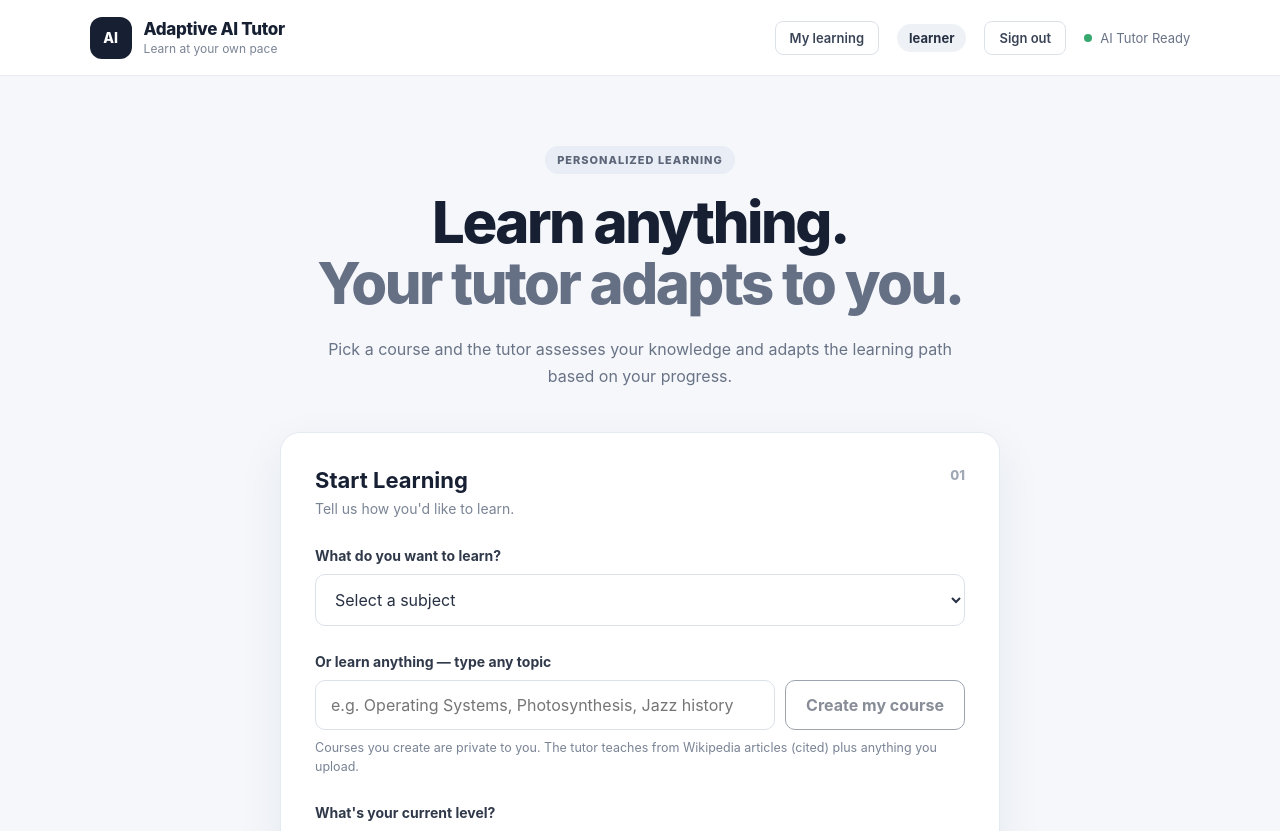
Test case: App › keeps asking the planner after an 'advance' decision
The image size is (1280, 831).
Select "Computer Networks" in the dropdown labelled "What do you want to learn?" at point(640, 600), box [315,574,965,626]
(page scrolled)
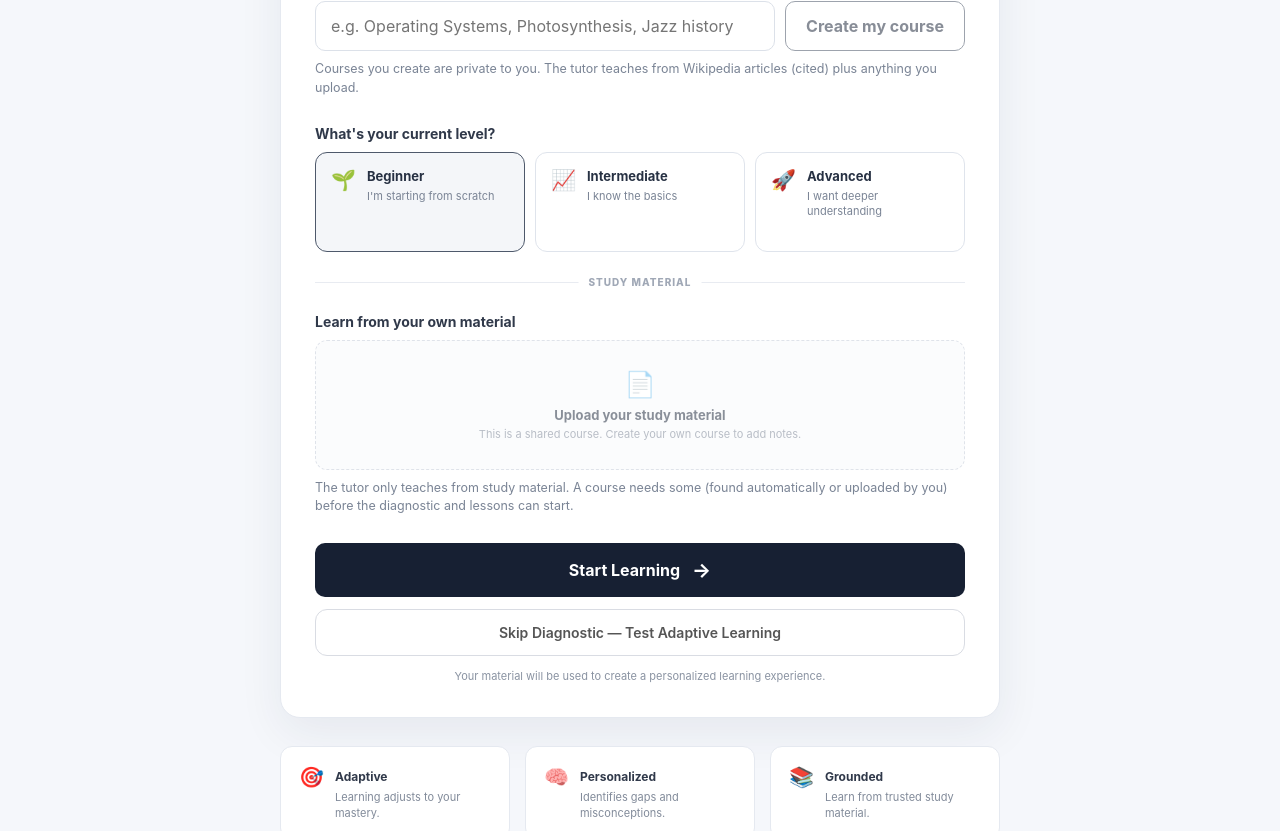
Click the button "Skip Diagnostic — Test Adaptive Learning" at point(640, 633), box [315,609,965,656]
(page scrolled)
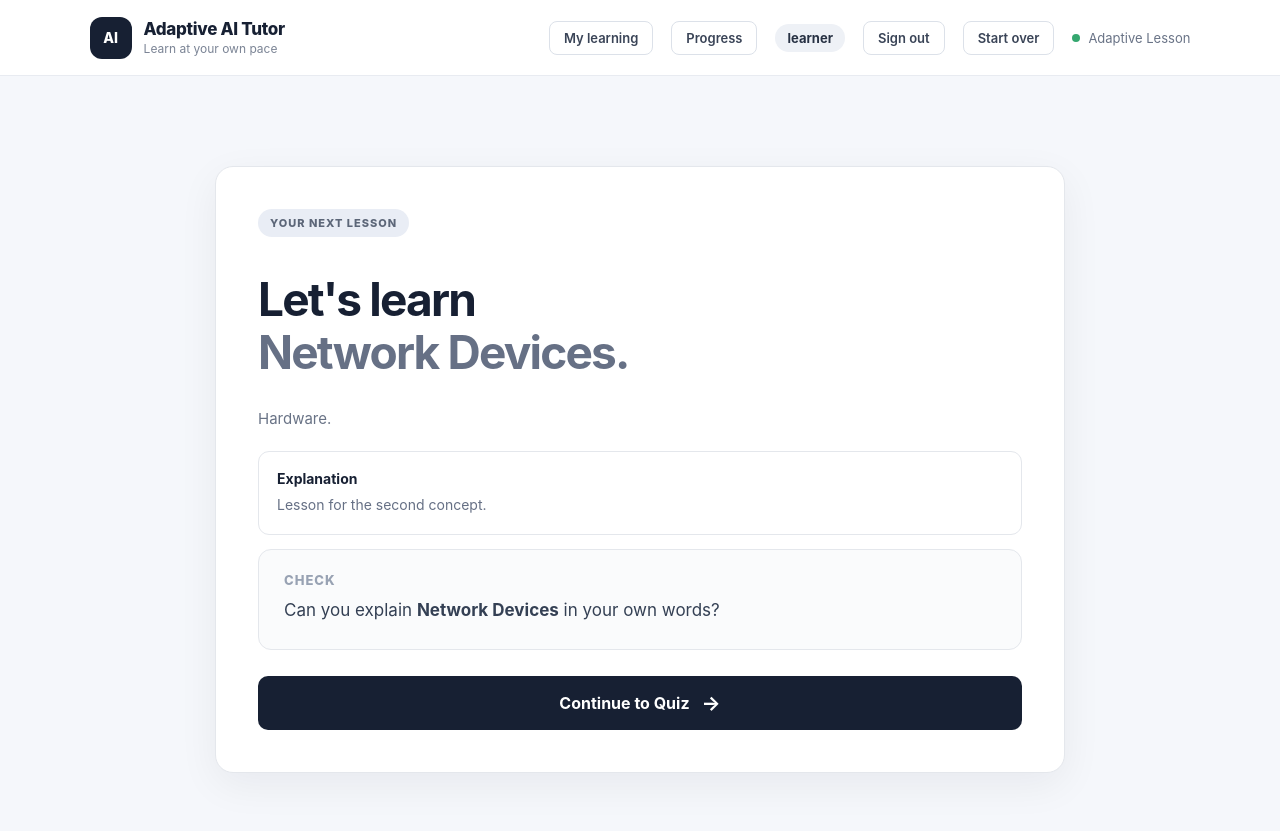
Now the text "Lesson for the second concept." is shown, box [277,496,486,513]
